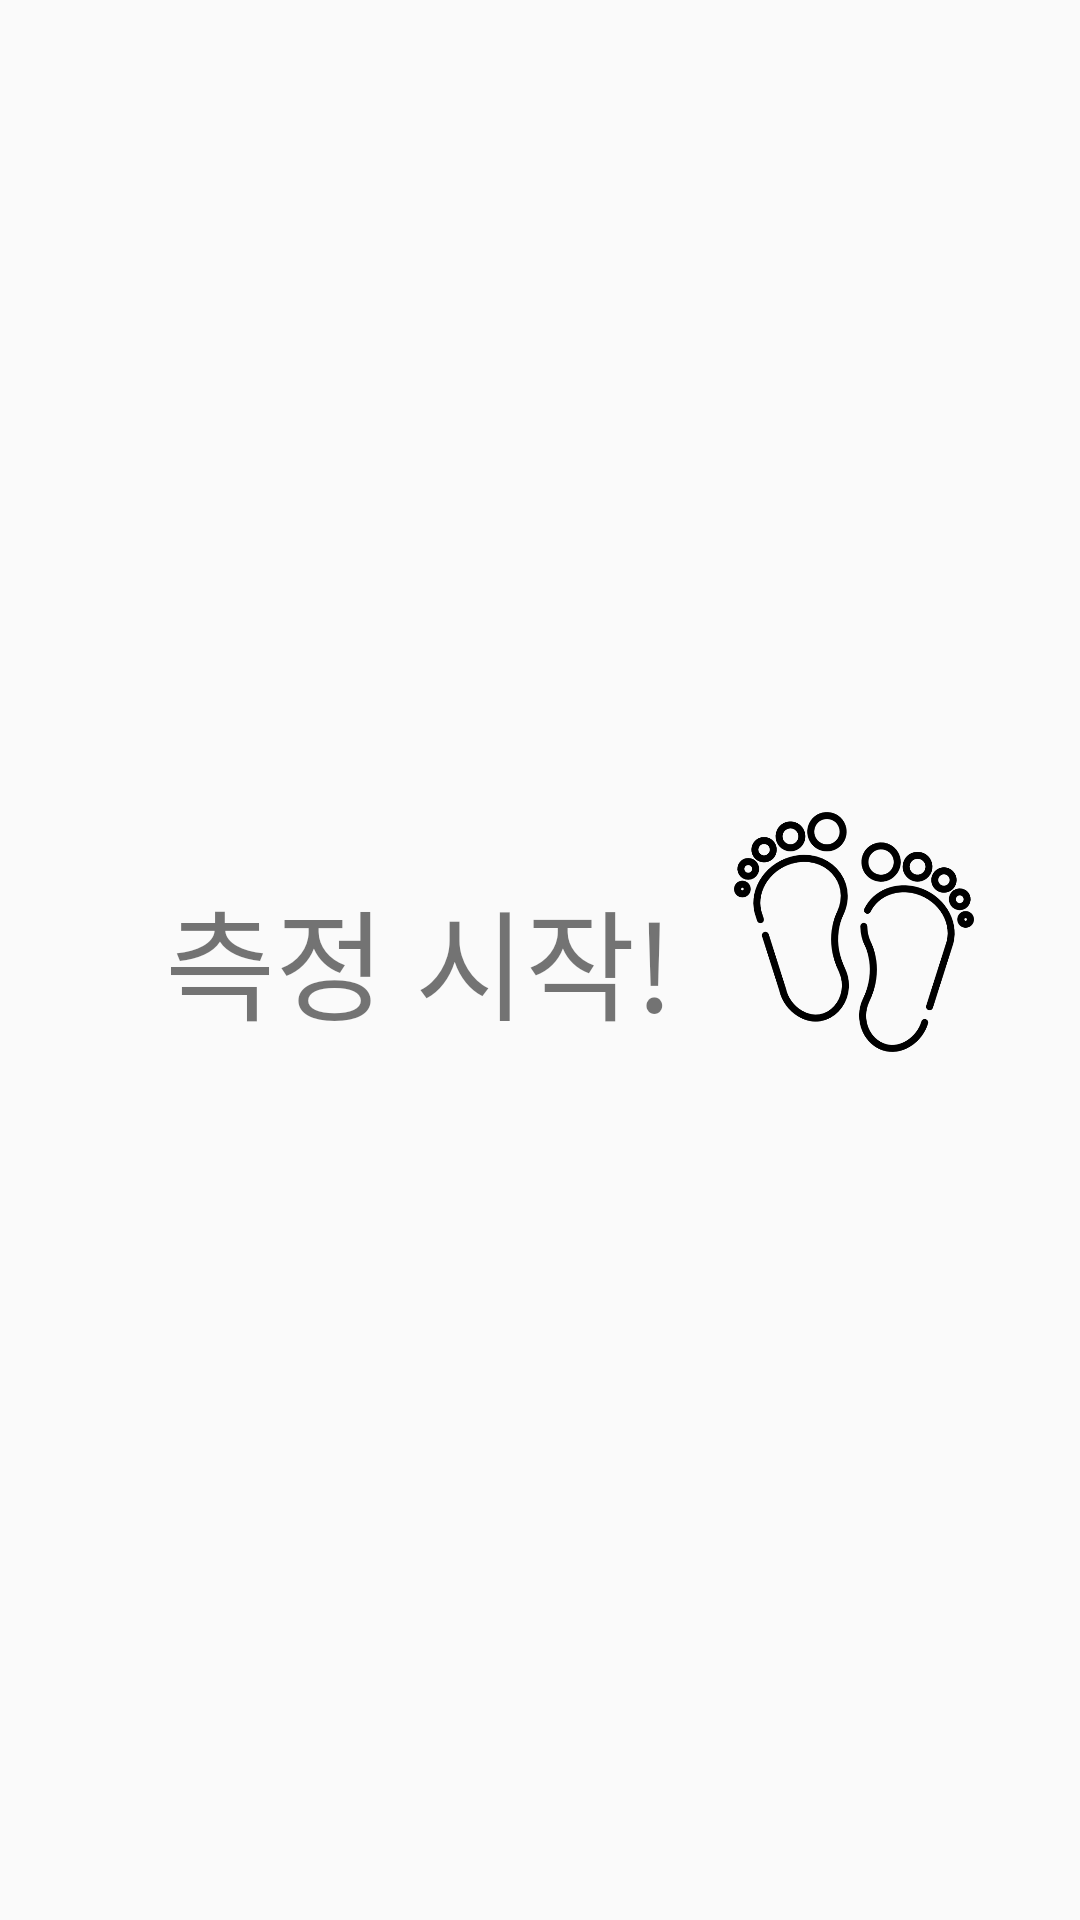

Named icons in this screenshot (1080w x 1920h) and their bounding boxes, (x1, y1, x2, y2):
foot: (734, 812, 974, 1052)
